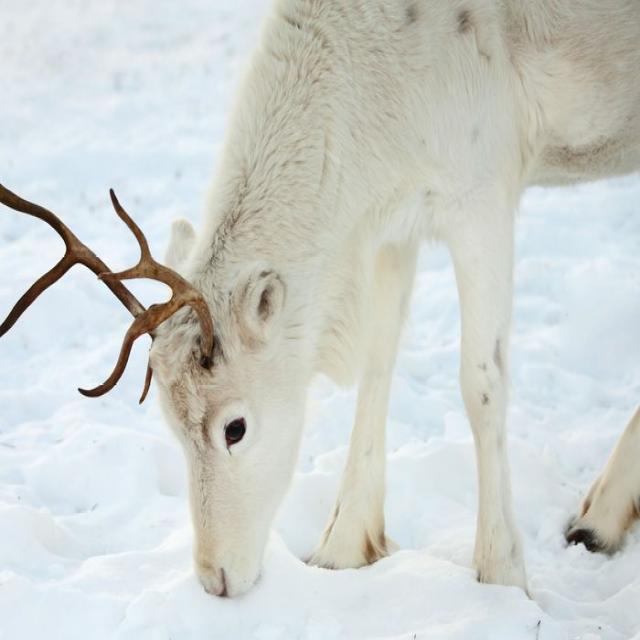Reindeer: (3, 5, 640, 598)
